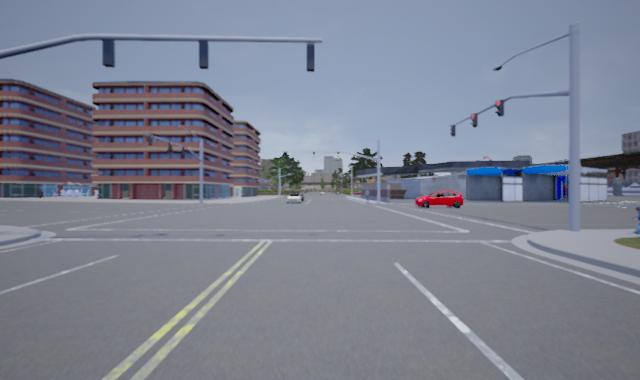traffic_light: (494, 99, 504, 117), (470, 113, 478, 129), (449, 124, 455, 138)
vehicle: (415, 191, 464, 208), (286, 193, 302, 204)
